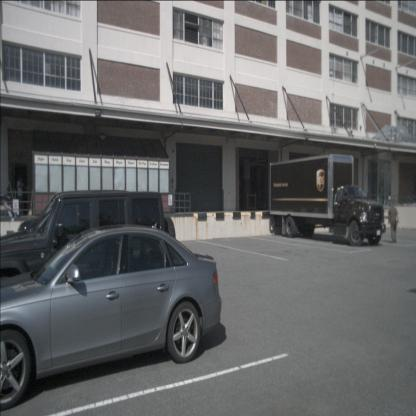human-pedestrian-adult: (16, 176, 28, 216), (388, 200, 398, 244)
vehicle-car: (0, 224, 222, 412), (0, 190, 176, 302)
vehicle-truck: (268, 153, 387, 248)
